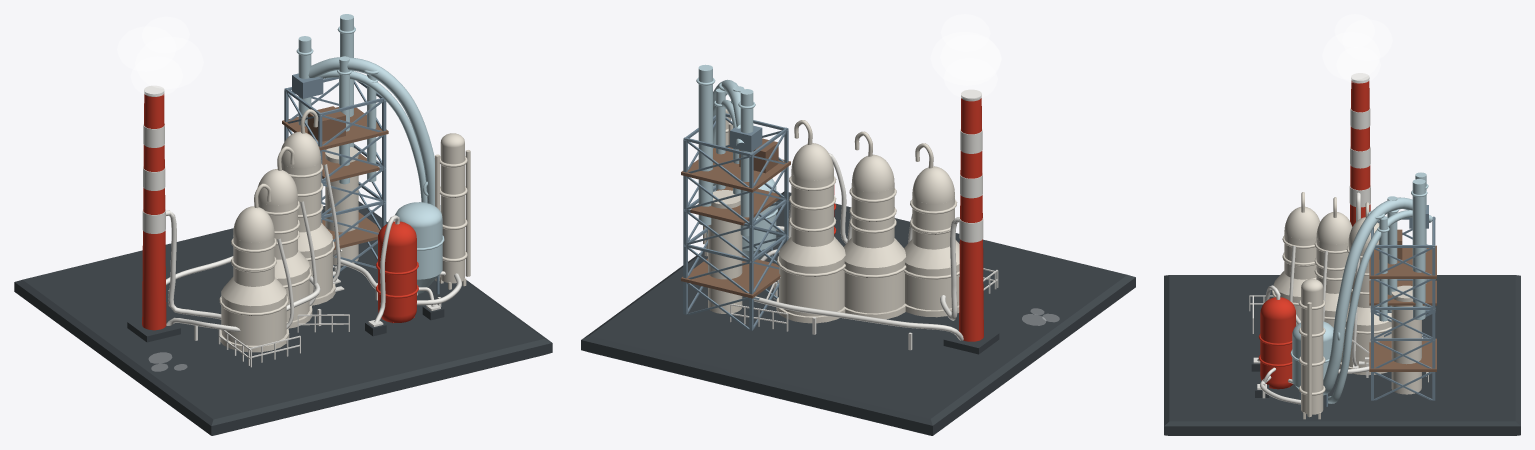
The model's file is gasPlant.glb.
3 renders of one model, left to right at view 1: azimuth 30°, elevation 25°; view 2: azimuth 150°, elevation 25°; view 3: azimuth 270°, elevation 25°, orthographic. The views are drawn at different scales.
Visible parts, largest first — view 1: slab, smoke, stack_shaft, column_shell, header_arc, reactor_front_drum, red_shell, rack_inner_vessel, reactor_front_shell, reactor_rear_shell, header_arc_companion, tank_shell (+27 smaller); view 2: slab, smoke, stack_shaft, reactor_rear_drum, reactor_mid_drum, rack_inner_vessel, reactor_rear_shell, reactor_mid_shell, reactor_front_drum, rack_riser_3, rack_deck_1, rack_post (×2) (+21 smaller); view 3: slab, smoke, header_arc, rack_inner_vessel, column_shell, red_shell, header_arc_companion, stack_shaft, rack_riser_3, rack_deck_1, rack_deck_3, reactor_mid_shell (+18 smaller).
Boxes of the visible parts, x1,y1,x2,y2 form: slab: [14, 201, 552, 435]; smoke: [117, 17, 203, 96]; stack_shaft: [142, 93, 166, 330]; column_shell: [440, 142, 464, 283]; header_arc: [308, 57, 440, 210]; reactor_front_drum: [221, 291, 286, 345]; red_shell: [378, 240, 416, 316]; rack_inner_vessel: [325, 146, 358, 265]; reactor_front_shell: [233, 235, 274, 286]; reactor_rear_shell: [281, 160, 321, 232]; header_arc_companion: [317, 70, 427, 202]; tank_shell: [394, 219, 442, 279]; slab: [581, 191, 1135, 435]; smoke: [930, 14, 1001, 98]; stack_shaft: [959, 98, 983, 341]; reactor_rear_drum: [779, 254, 845, 316]; reactor_mid_drum: [844, 257, 905, 313]; rack_inner_vessel: [708, 190, 742, 313]; reactor_rear_shell: [791, 172, 833, 246]; reactor_mid_shell: [851, 182, 894, 248]; reactor_front_drum: [905, 262, 959, 310]; rack_riser_3: [698, 64, 712, 225]; rack_deck_1: [681, 255, 780, 298]; rack_post (×2): [683, 139, 753, 330]; slab: [1164, 275, 1520, 435]; smoke: [1322, 14, 1392, 83]; header_arc: [1323, 197, 1412, 395]; rack_inner_vessel: [1391, 285, 1421, 394]; column_shell: [1301, 287, 1323, 414]; red_shell: [1260, 313, 1295, 383]; header_arc_companion: [1328, 210, 1432, 403]; stack_shaft: [1350, 80, 1370, 226]; rack_riser_3: [1412, 179, 1425, 319]; rack_deck_1: [1369, 338, 1436, 371]; rack_deck_3: [1369, 245, 1436, 278]; reactor_mid_shell: [1316, 237, 1348, 293].
Bounding box in the file's own units: 20 × 18.39 × 20.
